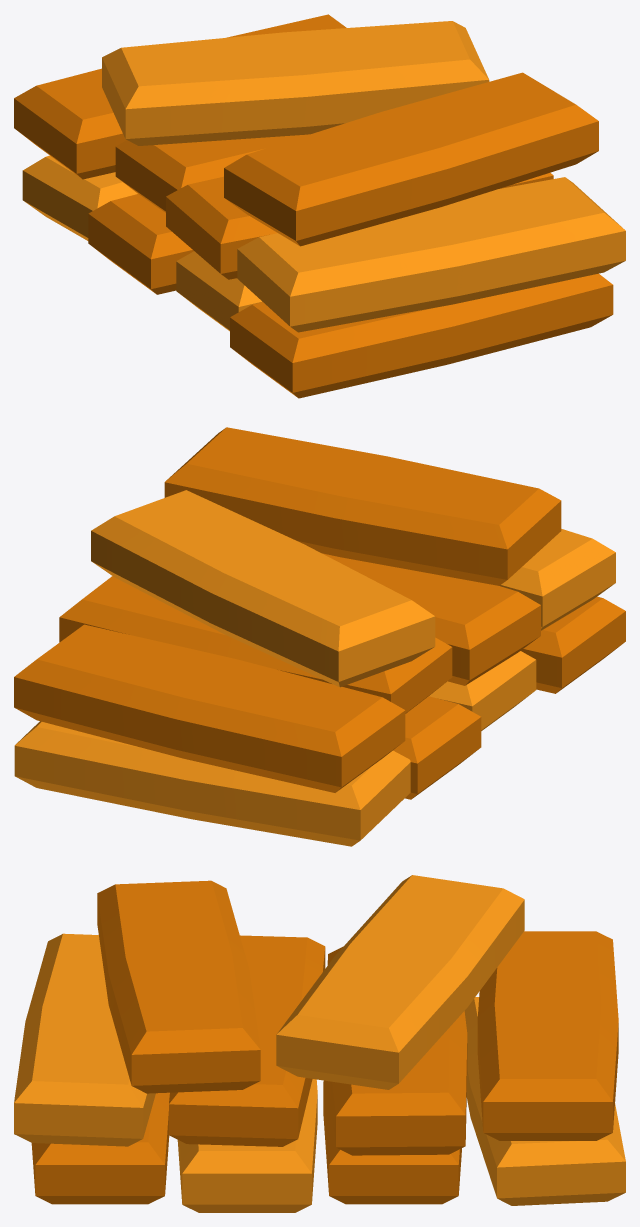
Rendered from GoldIngots.fbx.
3 views of the same model, one above another, from view 1: azimuth 30°, elevation 25°; view 2: azimuth 150°, elevation 25°; view 3: azimuth 270°, elevation 25° (orthographic). The views are drawn at different scales.
Parts seen in each view (by area): view 1: Ingots.001; view 2: Ingots.001; view 3: Ingots.001.
Part boxes in pixels (x1,y1,x2,y2): Ingots.001: [14, 14, 625, 398]; Ingots.001: [14, 427, 625, 846]; Ingots.001: [14, 875, 625, 1212].
Size of the model in its own units: 46.11 by 22.37 by 65.86.
